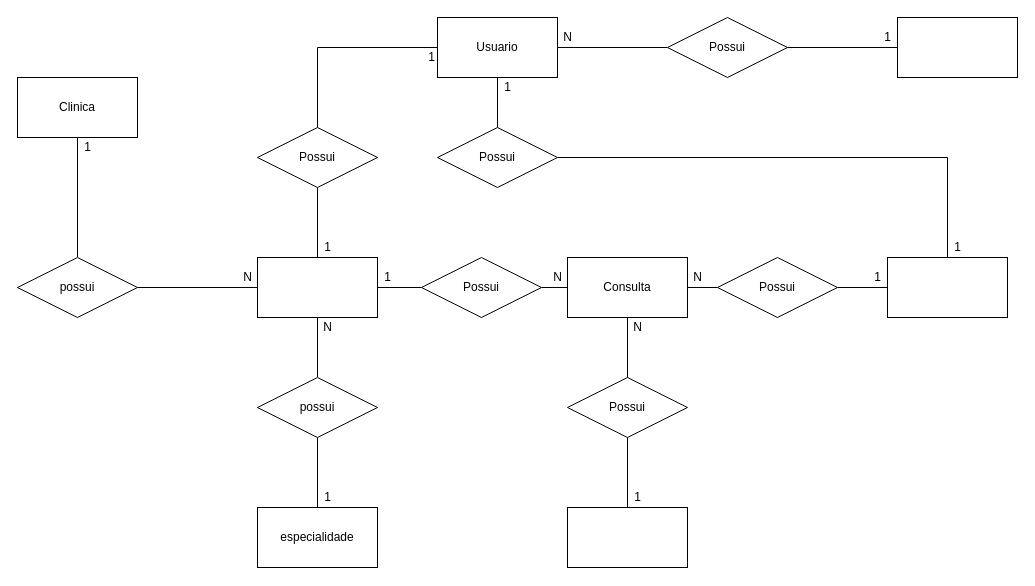
The diagram is 1035 pixels wide and 586 high, and some of its shapes have lost their labels. The centre of each missing label's shape, as x and y in pixels:
Medico: (x=317, y=287)
paciente: (x=947, y=287)
situacao: (x=627, y=537)
TipoUsuario: (x=957, y=47)
